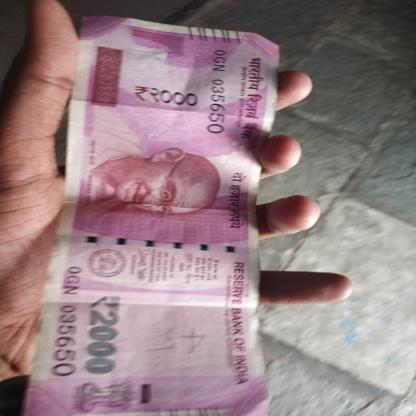New2000Front: (46, 23, 262, 415)
